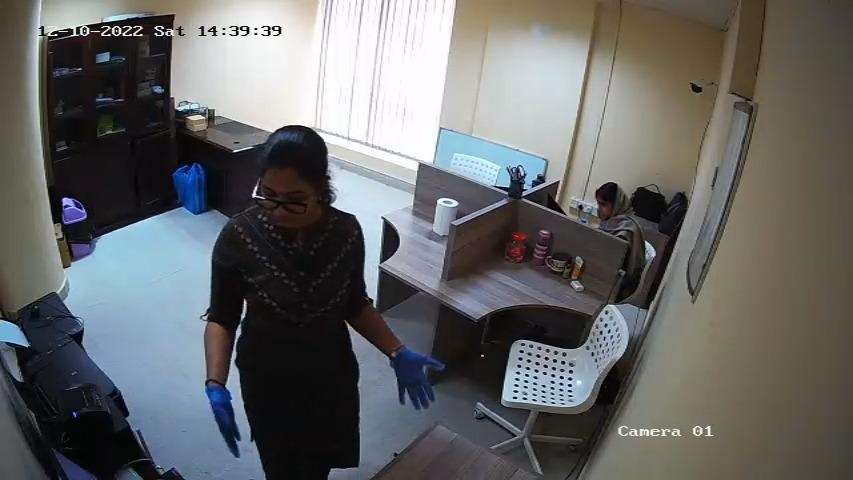gloves: (384, 346, 446, 412), (204, 381, 244, 454)
